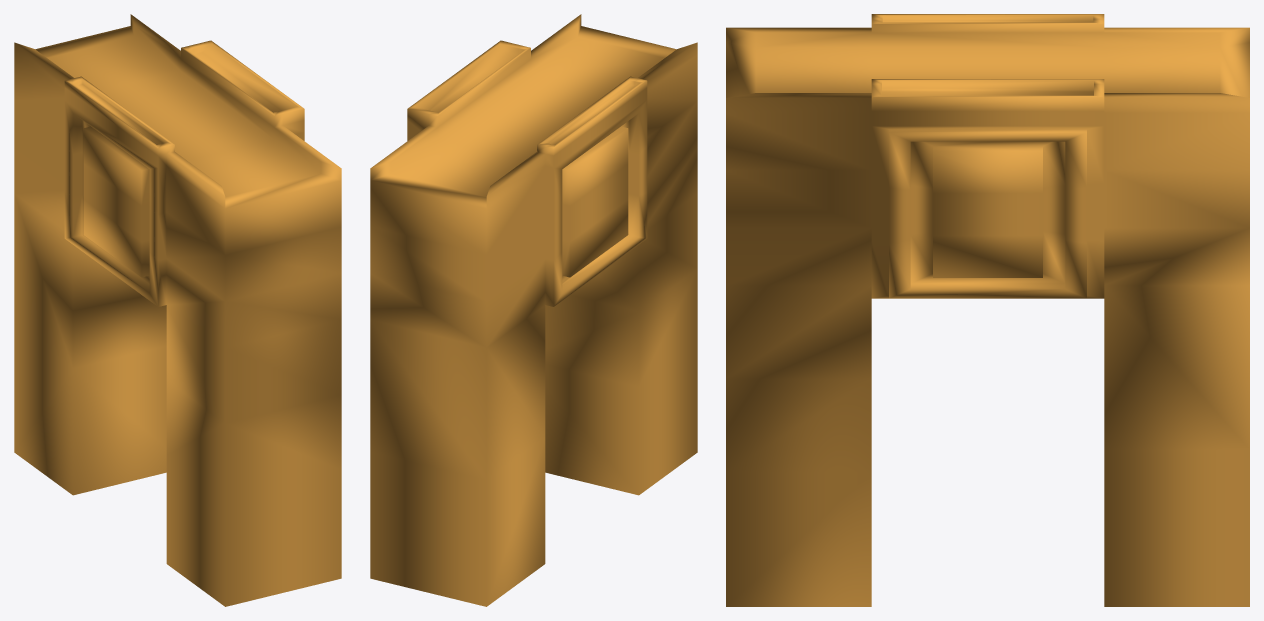
The model's file is SM_Castle_Tower_FrontDoor.fbx.
The picture shows the model from 3 angles, left to right: view 1: azimuth 30°, elevation 25°; view 2: azimuth 150°, elevation 25°; view 3: azimuth 270°, elevation 25°; orthographic projection. The views are drawn at different scales.
Visible parts, largest first — view 1: SM_MiddleTower; view 2: SM_MiddleTower; view 3: SM_MiddleTower.
Part boxes in pixels (bbox=[...]): SM_MiddleTower: bbox=[14, 14, 341, 606]; SM_MiddleTower: bbox=[370, 14, 697, 606]; SM_MiddleTower: bbox=[726, 14, 1249, 606].
Size of the model in its own units: 247 by 657 by 597.
